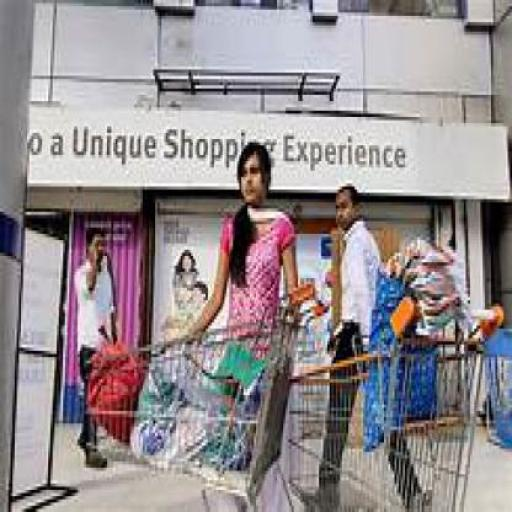shopping_cart: (78, 284, 327, 491), (288, 301, 504, 512)
